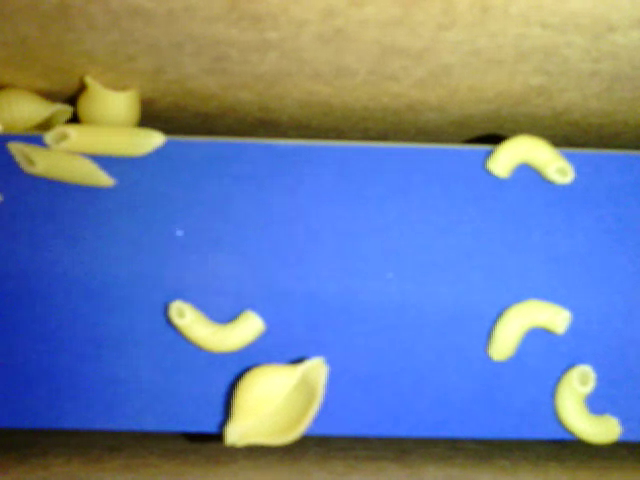elbow: (480, 295, 574, 363), (555, 365, 624, 444), (479, 133, 577, 188), (166, 295, 262, 350)
penne: (5, 138, 113, 191), (41, 122, 162, 156)
shell: (221, 351, 330, 449), (76, 73, 143, 133), (1, 83, 71, 136)
